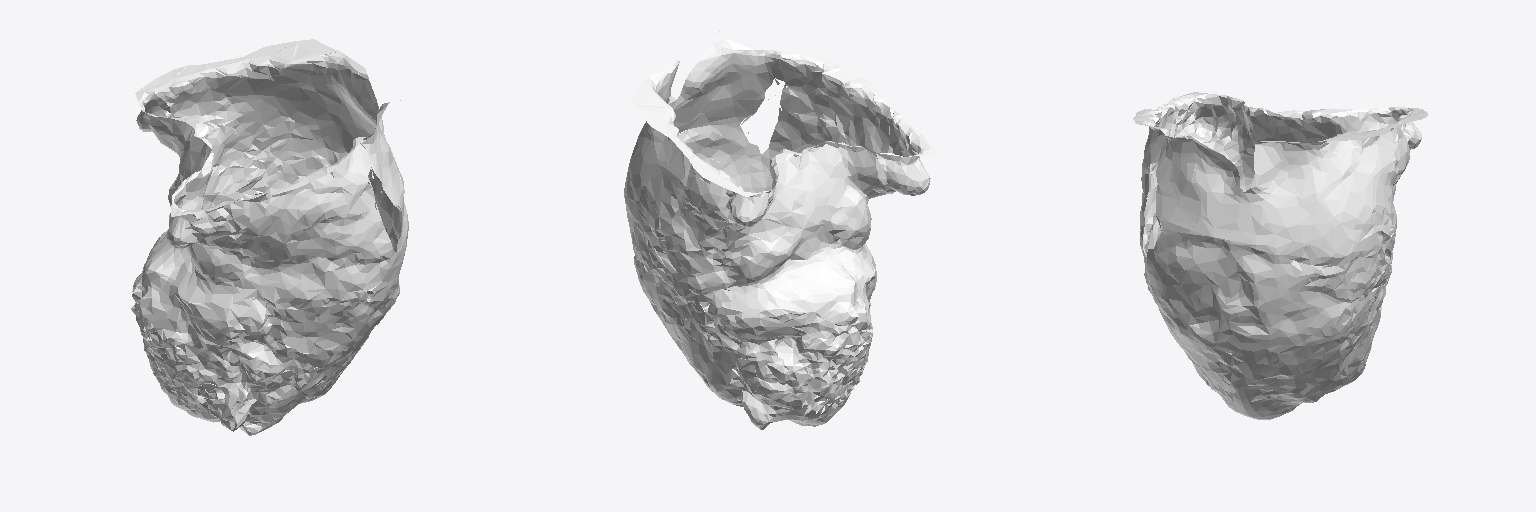
The model's file is Hamster.obj.
3 views of the same model, side by side, from view 1: azimuth 30°, elevation 25°; view 2: azimuth 150°, elevation 25°; view 3: azimuth 270°, elevation 25° (orthographic).
Size of the model in its own units: 6.84 by 8.54 by 6.83.